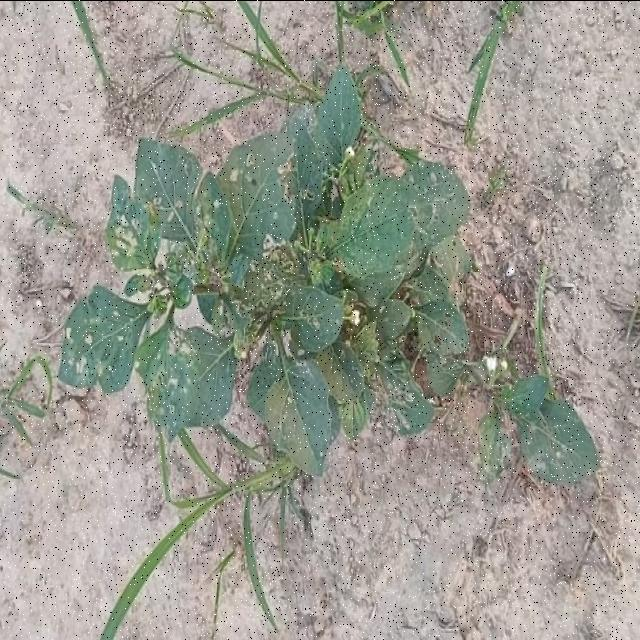weed: (58, 65, 599, 482)
